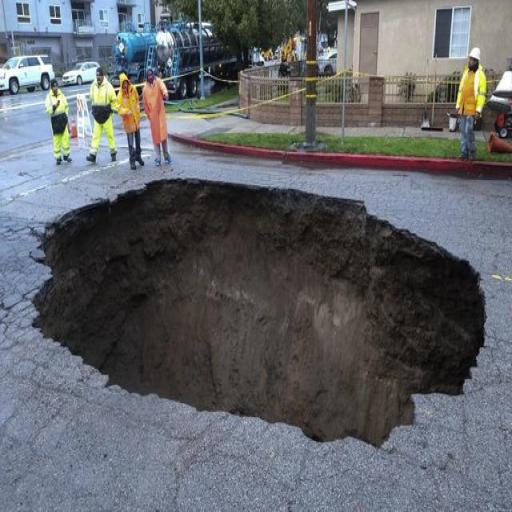Concentric_Crack: (36, 181, 484, 444)
